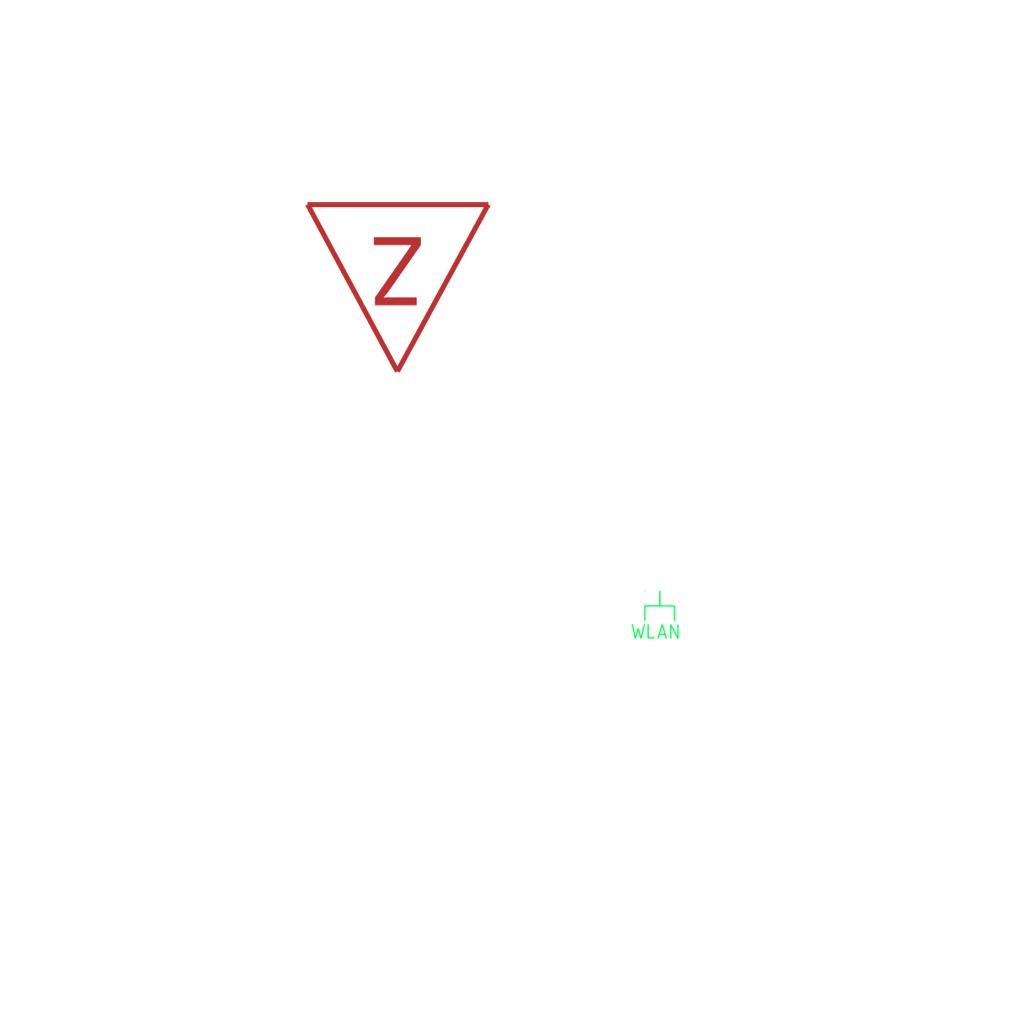WLAN: (629, 589, 681, 641)
Zimmersignalleuchte: (302, 187, 498, 387)
